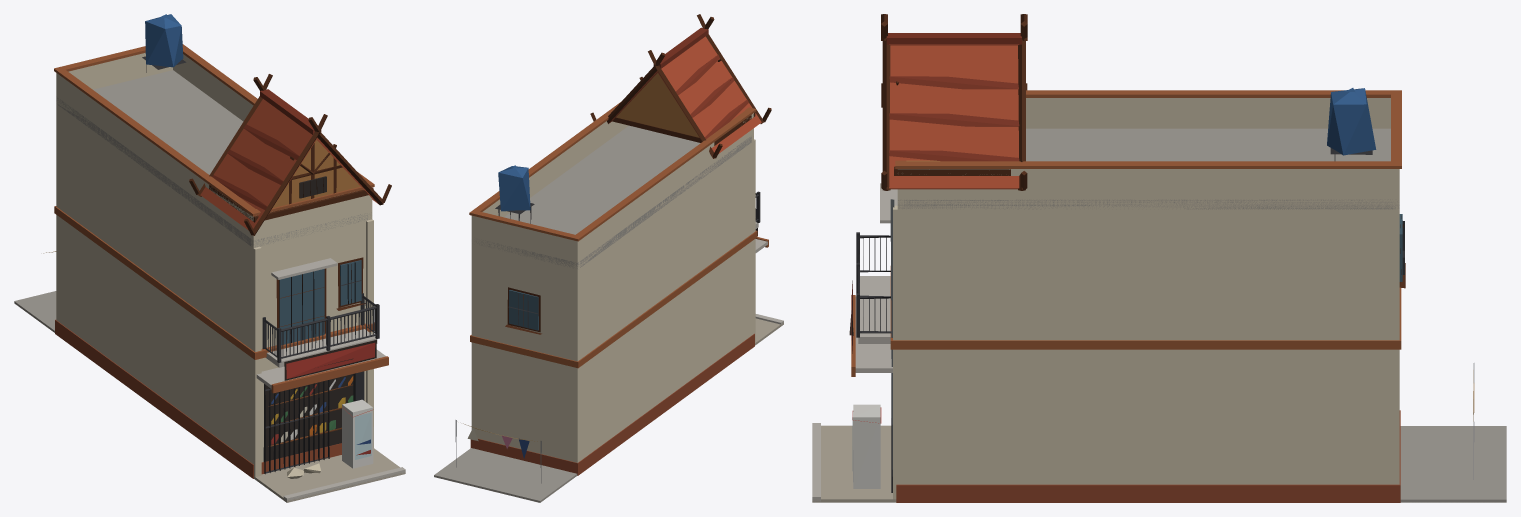
File: bay1_mid2.glb
3 renders of one model, left to right at view 1: azimuth 30°, elevation 25°; view 2: azimuth 150°, elevation 25°; view 3: azimuth 270°, elevation 25°, orthographic. The views are drawn at different scales.
Parts seen in each view (by area): view 1: body, windows; view 2: body, windows; view 3: body.
Boxes of the visible parts, bbox=[...] form: body: bbox=[14, 14, 405, 502]; windows: bbox=[264, 176, 361, 461]; body: bbox=[434, 14, 783, 502]; windows: bbox=[509, 290, 538, 330]; body: bbox=[812, 14, 1506, 502].
Size of the model in its own units: 4.98 by 11.33 by 15.9.
